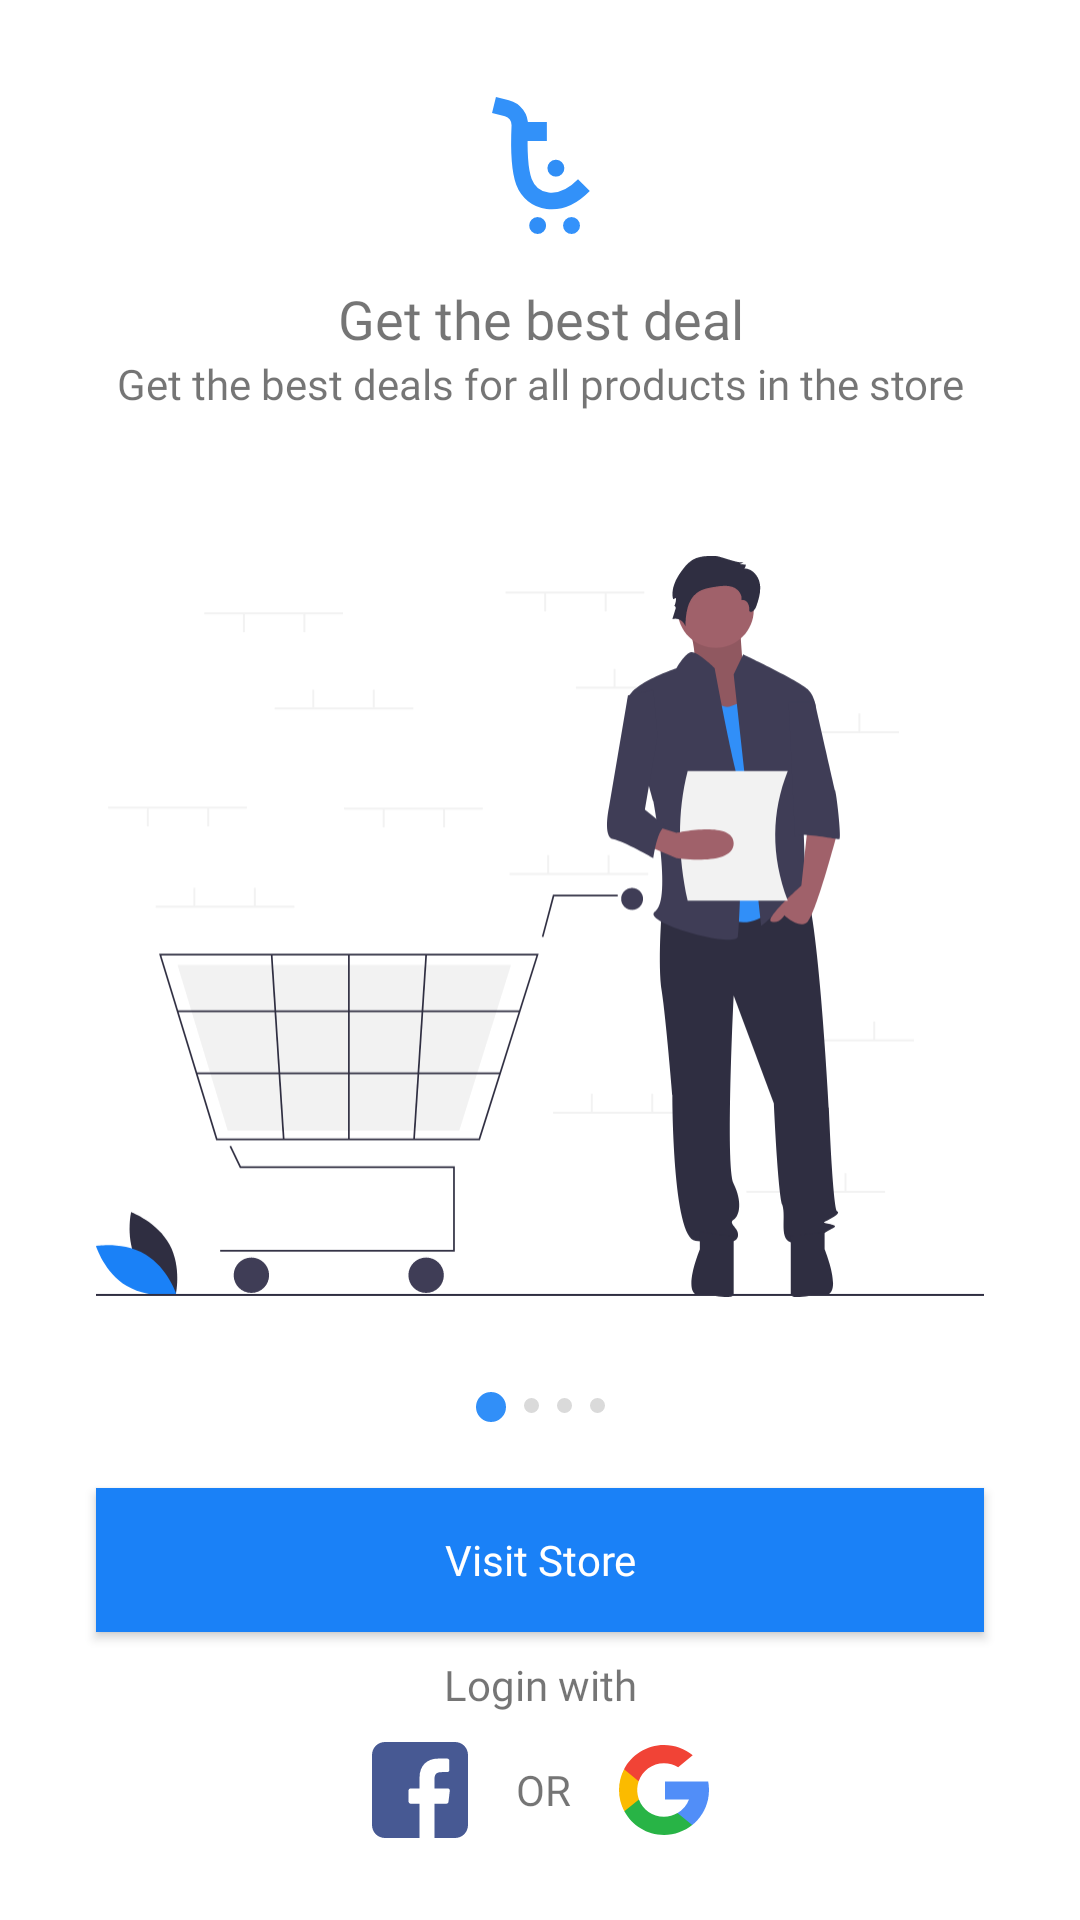

Named icons in this screenshot (1080 × 1920) and their bounding boxes, {"left": x1, "top": y1, "right": x2, "bottom": y2}:
pager one: {"left": 476, "top": 1392, "right": 605, "bottom": 1422}
